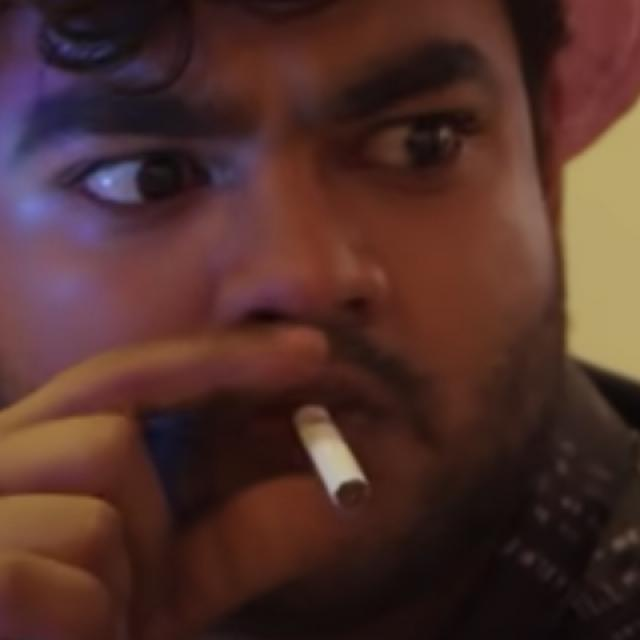smoke: (294, 405, 392, 516)
